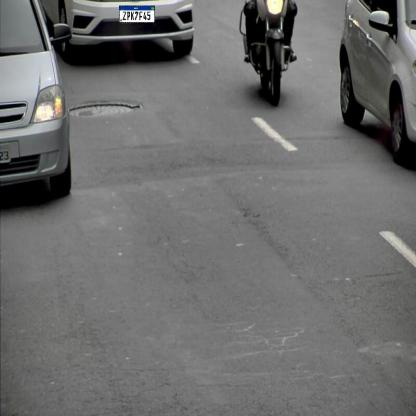PlacaM: (119, 5, 155, 23)
